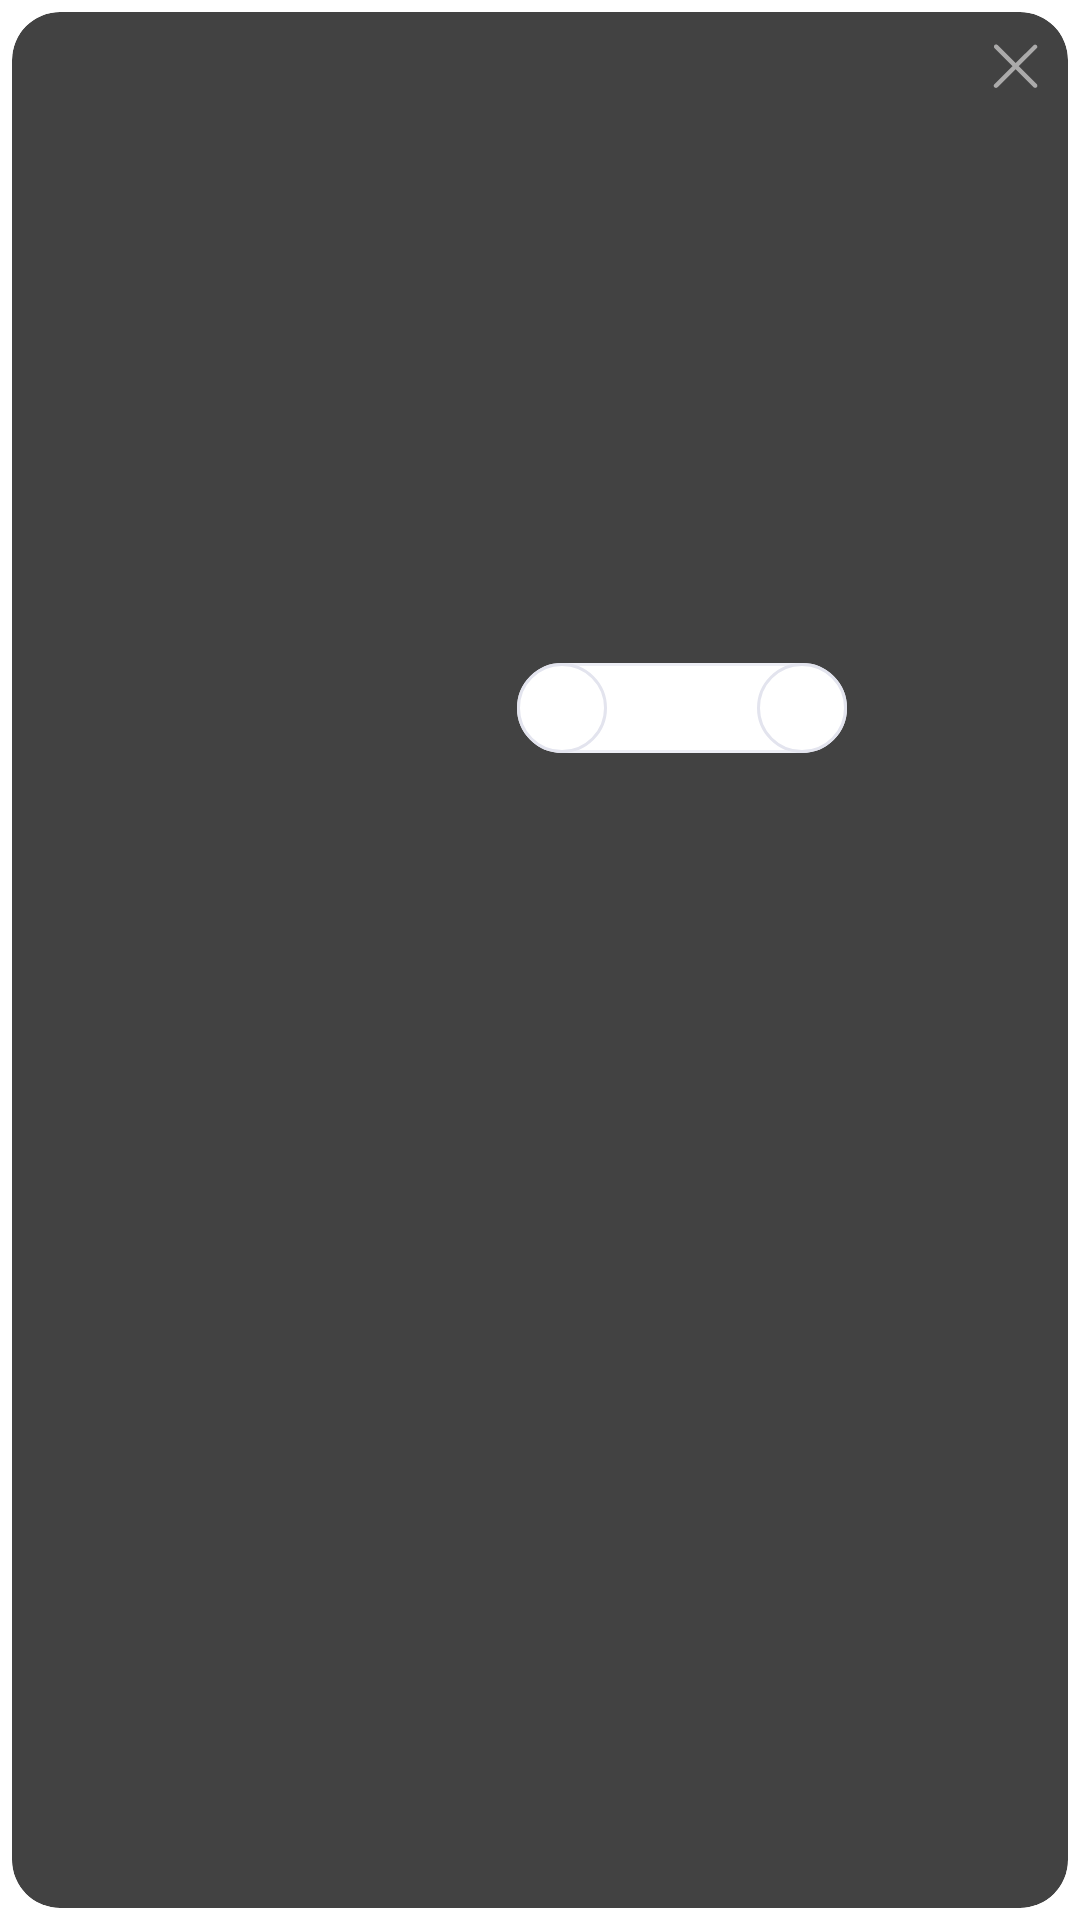

Icons on this 1080x1920 Android screen, each with the point to tap as (x,y):
cancle order: (1015,66)
